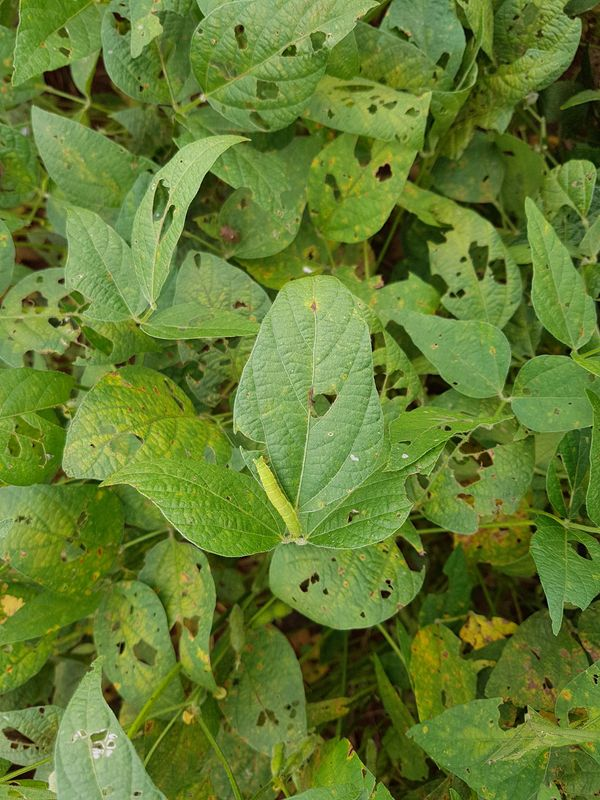Anticarsia_gemmatalis: (242, 451, 318, 546)
Euschistus_heros_adulto: (213, 220, 247, 252)
